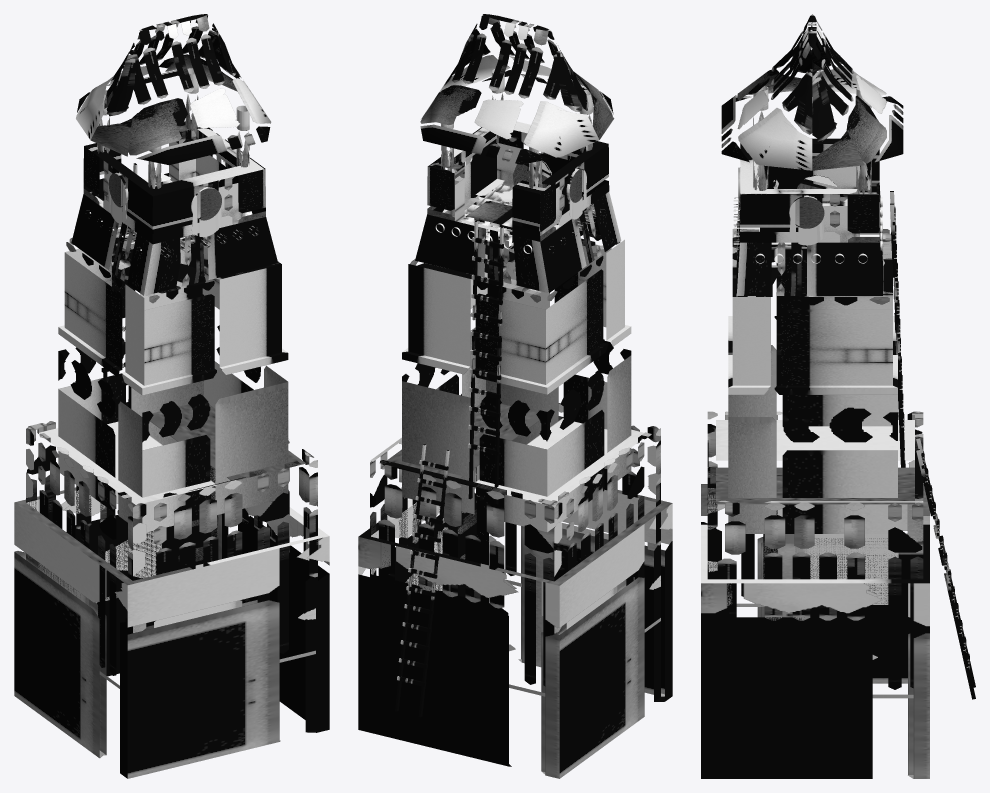
File: elmirador_defense_tower.dae
3 renders of one model, left to right at view 1: azimuth 30°, elevation 25°; view 2: azimuth 150°, elevation 25°; view 3: azimuth 270°, elevation 25°, orthographic.
Parts seen in each view (by area): view 1: torre; view 2: torre; view 3: torre.
Boxes of the visible parts, box(x1,y1,x2,y2) form: torre: box(14, 14, 329, 778); torre: box(358, 14, 672, 778); torre: box(701, 14, 975, 778).
Size of the model in its own units: 8.02 by 9.37 by 26.27.
1 material, 1 textured.
